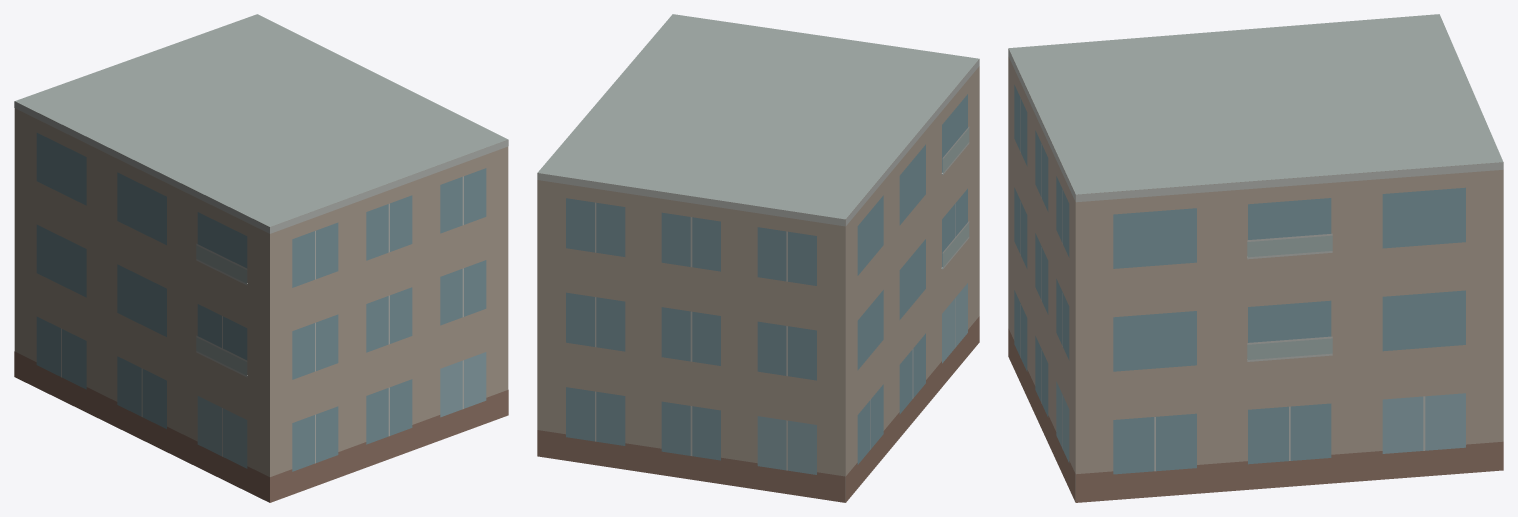
Rendered from survey-upis-32740416.glb.
The picture shows the model from 3 angles, left to right: view 1: azimuth 30°, elevation 25°; view 2: azimuth 150°, elevation 25°; view 3: azimuth 270°, elevation 25°; orthographic projection. The views are drawn at different scales.
Parts seen in each view (by area): view 1: survey-upis-32740416.tmp; view 2: survey-upis-32740416.tmp; view 3: survey-upis-32740416.tmp.
Boxes of the visible parts, <box> form: survey-upis-32740416.tmp: <box>14,14,508,502</box>; survey-upis-32740416.tmp: <box>537,14,979,502</box>; survey-upis-32740416.tmp: <box>1008,14,1503,502</box>.
Size of the model in its own units: 12.32 by 9.8 by 14.28.
